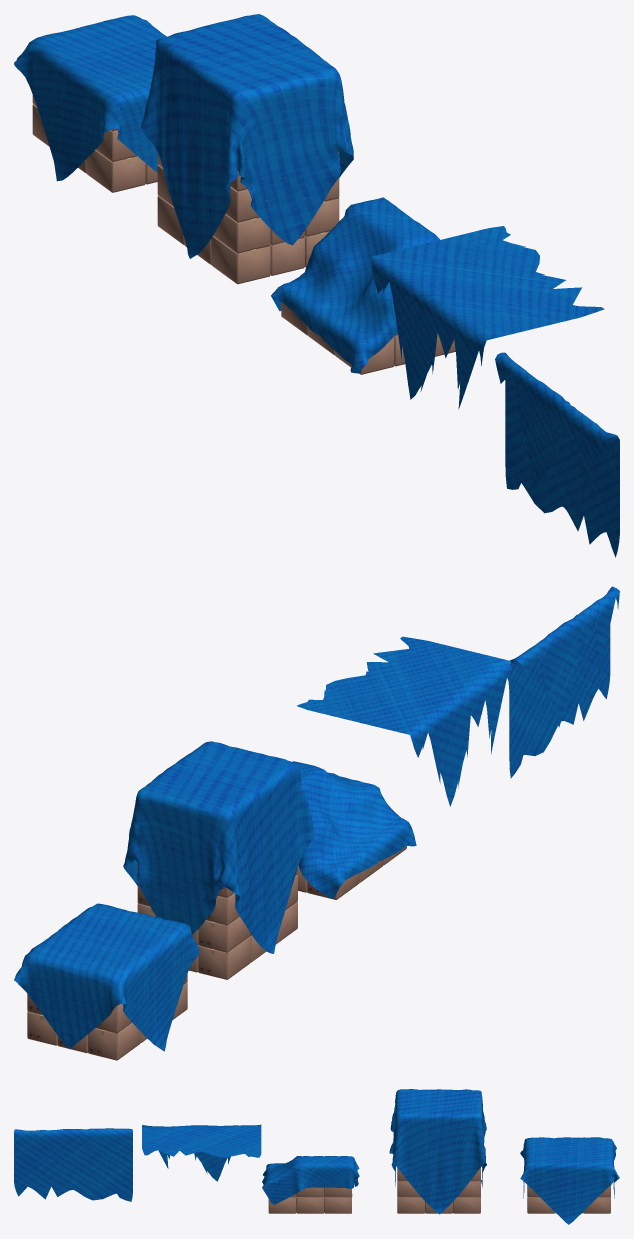
File: BoxDummy+TornCloth.fbx
3 views of the same model, one above another, from view 1: azimuth 30°, elevation 25°; view 2: azimuth 150°, elevation 25°; view 3: azimuth 270°, elevation 25° (orthographic). The views are drawn at different scales.
Visible parts, largest first — view 1: GrounSheet02, Torn_Cloth01, GrounSheet01, Torn_Cloth02, GrounSheet03, BoxDummy02, BoxDummy01, BoxDummy03; view 2: GrounSheet02, GrounSheet01, Torn_Cloth01, Torn_Cloth02, GrounSheet03, BoxDummy02, BoxDummy01, BoxDummy03; view 3: GrounSheet02, Torn_Cloth02, GrounSheet01, Torn_Cloth01, GrounSheet03, BoxDummy03, BoxDummy02, BoxDummy01.
Boxes of the visible parts, box(x1,y1,x2,y2) form: GrounSheet02: box(140, 14, 353, 258); Torn_Cloth01: box(371, 226, 604, 409); GrounSheet01: box(14, 15, 166, 181); Torn_Cloth02: box(495, 352, 619, 557); GrounSheet03: box(271, 197, 439, 373); BoxDummy02: box(157, 152, 339, 284); BoxDummy01: box(32, 95, 157, 192); BoxDummy03: box(281, 302, 455, 374); GrounSheet02: box(123, 741, 315, 953); GrounSheet01: box(14, 903, 199, 1051); Torn_Cloth01: box(297, 636, 511, 806); Torn_Cloth02: box(509, 586, 619, 778); GrounSheet03: box(292, 761, 416, 898); BoxDummy02: box(137, 862, 297, 979); BoxDummy01: box(27, 974, 187, 1060); BoxDummy03: box(297, 846, 406, 899); GrounSheet02: box(389, 1089, 486, 1214); Torn_Cloth02: box(14, 1128, 132, 1201); GrounSheet01: box(520, 1137, 619, 1224); Torn_Cloth01: box(142, 1124, 261, 1181); GrounSheet03: box(262, 1156, 359, 1204); BoxDummy03: box(268, 1187, 352, 1213); BoxDummy02: box(397, 1168, 480, 1213); BoxDummy01: box(527, 1185, 610, 1213).
Size of the model in its own units: 335 by 2250 by 448.
5 materials, 5 textured.
